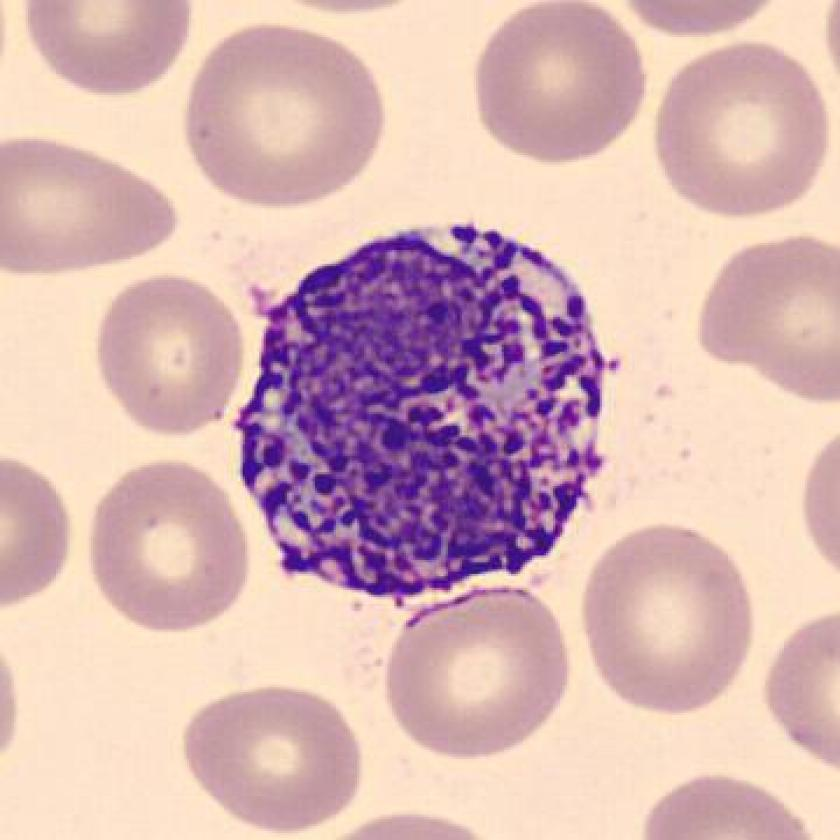basophil: (241, 216, 622, 603)
